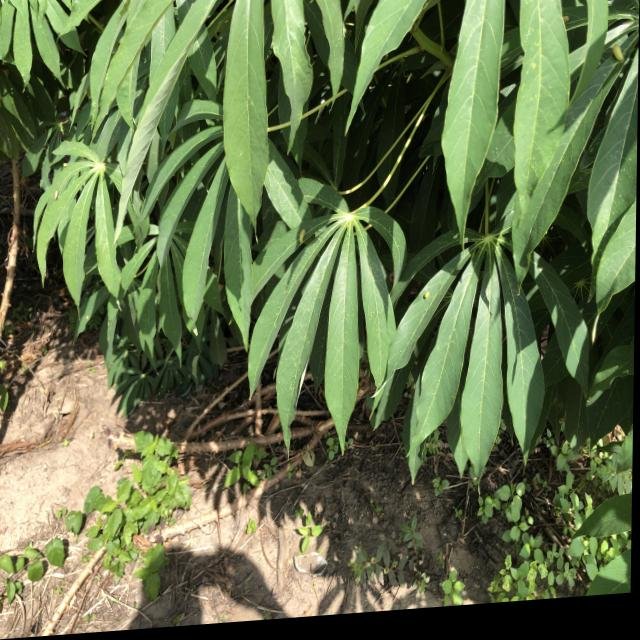Mosca: (288, 223, 321, 252), (611, 36, 635, 73), (43, 183, 69, 211), (423, 285, 441, 306)
